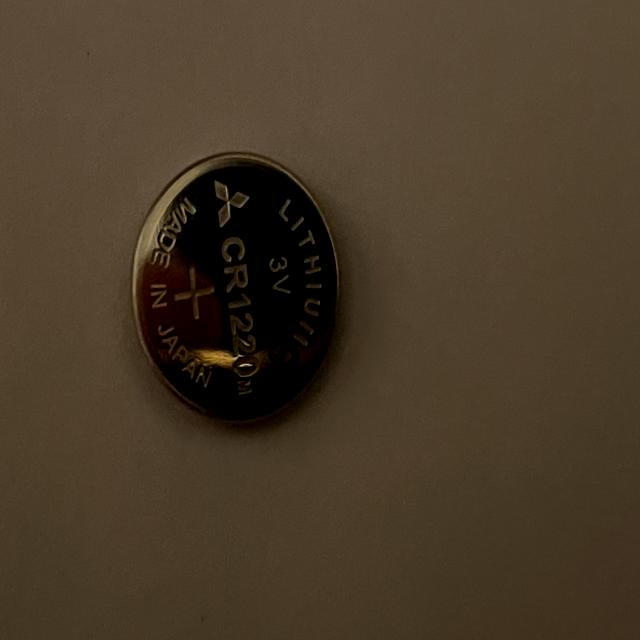COIN: (128, 152, 338, 429)
